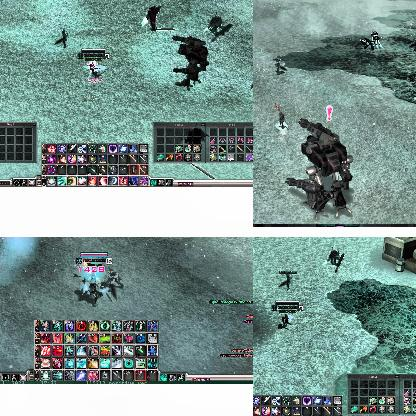caliana: (82, 280, 106, 308), (106, 270, 122, 294), (54, 28, 68, 48), (279, 272, 293, 290), (273, 57, 285, 73), (410, 36, 416, 51)
